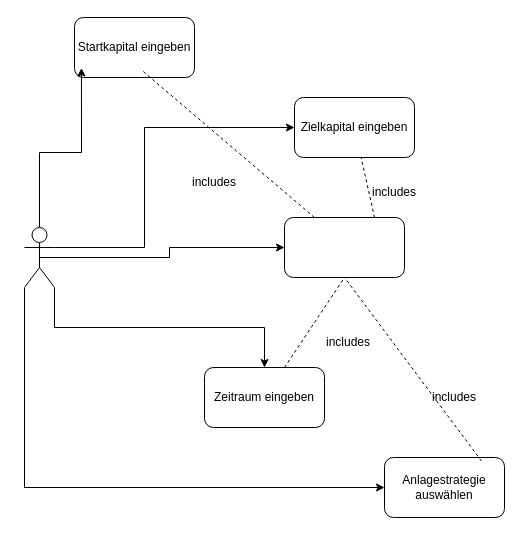
The diagram is 522 pixels wide and 535 high, and some of its shapes have lost their labels. The shapes that lost their labels are listed below. From the top down, each one's centre as x and y in pixels, then its label:
(39,257): Actor
(344,247): Gewichtung pro Anlage berechnen nach Strategie in %
